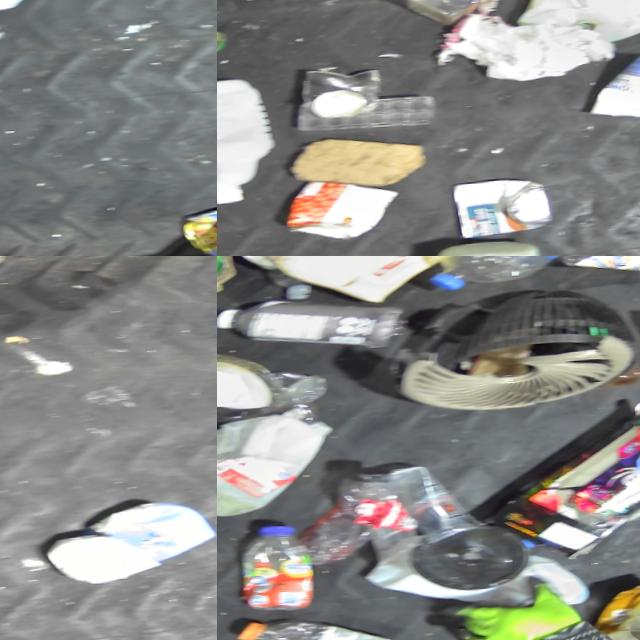can: (282, 175, 402, 247), (450, 177, 556, 244), (303, 67, 384, 123)
milk_jug: (217, 410, 337, 523), (217, 75, 278, 210), (512, 0, 640, 54)
plastic_bottle: (427, 256, 617, 293), (234, 612, 399, 640), (560, 256, 640, 280)
